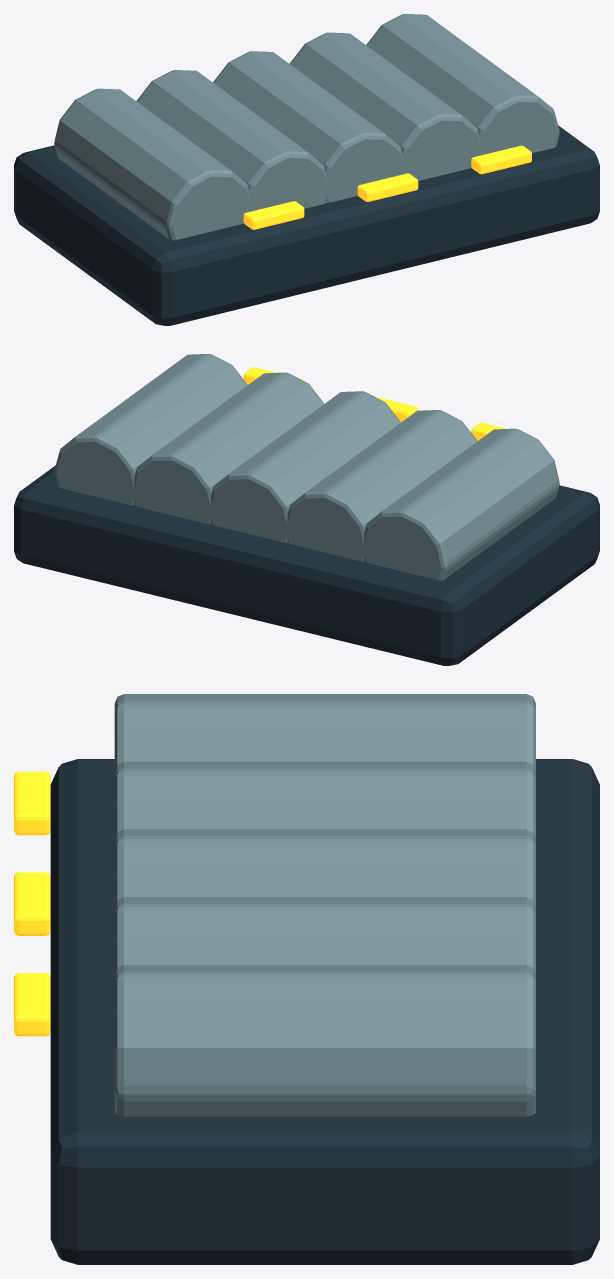
File: Conveyor.glb
3 views of the same model, one above another, from view 1: azimuth 30°, elevation 25°; view 2: azimuth 150°, elevation 25°; view 3: azimuth 270°, elevation 25° (orthographic). The views are drawn at different scales.
Visible parts, largest first — view 1: Conveyor_Base, Conveyor_Roller_-0.7, Conveyor_Roller_0.35, Conveyor_Roller_0.7, Conveyor_Roller_0, Conveyor_Roller_-0.35, Conveyor_Arrow_0, Conveyor_Arrow_-0.52, Conveyor_Arrow_0.52; view 2: Conveyor_Base, Conveyor_Roller_-0.7, Conveyor_Roller_0.7, Conveyor_Roller_0, Conveyor_Roller_0.35, Conveyor_Roller_-0.35, Conveyor_Arrow_0; view 3: Conveyor_Base, Conveyor_Roller_0.7, Conveyor_Roller_-0.35, Conveyor_Roller_0.35, Conveyor_Roller_-0.7, Conveyor_Roller_0, Conveyor_Arrow_-0.52, Conveyor_Arrow_0, Conveyor_Arrow_0.52.
Part boxes in pixels (x1,y1,x2,y2): Conveyor_Base: [14, 125, 599, 325]; Conveyor_Roller_-0.7: [54, 88, 250, 240]; Conveyor_Roller_0.35: [289, 32, 479, 180]; Conveyor_Roller_0.7: [366, 14, 559, 155]; Conveyor_Roller_0: [213, 51, 403, 202]; Conveyor_Roller_-0.35: [136, 70, 326, 211]; Conveyor_Arrow_0: [357, 173, 418, 201]; Conveyor_Arrow_-0.52: [243, 201, 304, 229]; Conveyor_Arrow_0.52: [471, 145, 531, 174]; Conveyor_Base: [14, 465, 599, 665]; Conveyor_Roller_-0.7: [363, 428, 559, 580]; Conveyor_Roller_0.7: [54, 354, 247, 505]; Conveyor_Roller_0: [209, 391, 400, 542]; Conveyor_Roller_0.35: [133, 372, 324, 524]; Conveyor_Roller_-0.35: [287, 410, 477, 561]; Conveyor_Arrow_0: [375, 396, 418, 422]; Conveyor_Base: [50, 759, 599, 1264]; Conveyor_Roller_0.7: [114, 965, 535, 1116]; Conveyor_Roller_-0.35: [114, 761, 535, 838]; Conveyor_Roller_0.35: [114, 897, 535, 973]; Conveyor_Roller_-0.7: [114, 694, 535, 770]; Conveyor_Roller_0: [114, 829, 535, 905]; Conveyor_Arrow_-0.52: [14, 771, 50, 835]; Conveyor_Arrow_0: [14, 872, 50, 935]; Conveyor_Arrow_0.52: [14, 973, 50, 1036].
Size of the model in its own units: 2.04 by 0.577 by 1.28.
